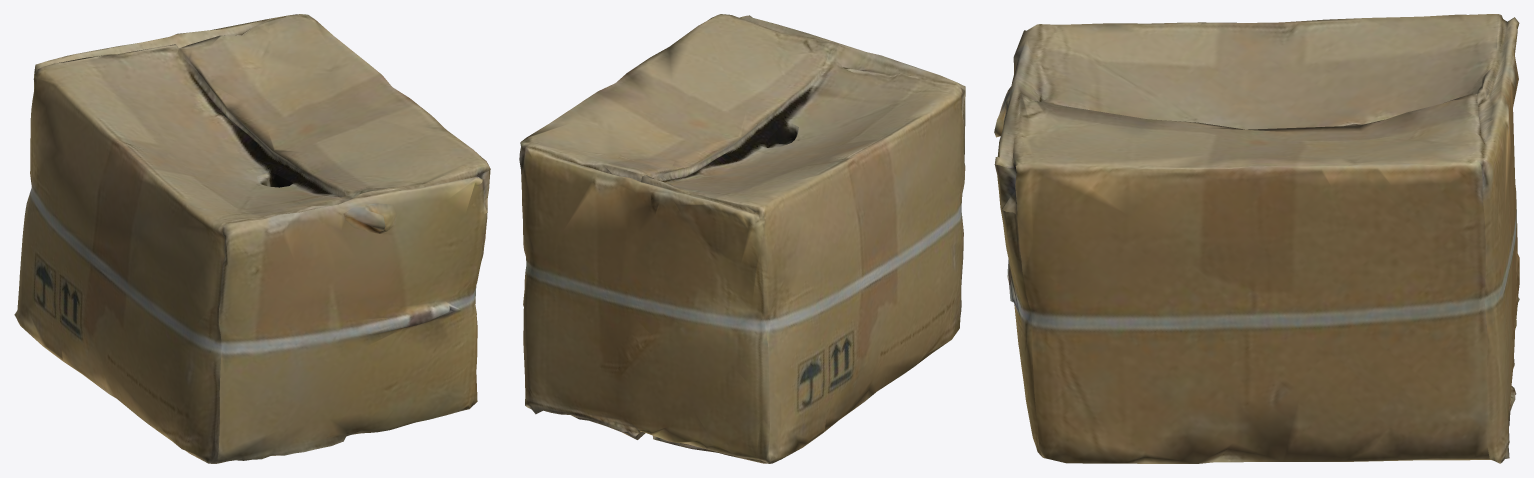
Rendered from CardboardBox.obj.
3 views of the same model, side by side, from view 1: azimuth 30°, elevation 25°; view 2: azimuth 150°, elevation 25°; view 3: azimuth 270°, elevation 25° (orthographic). The views are drawn at different scales.
Visible parts, largest first — view 1: Cardboard; view 2: Cardboard; view 3: Cardboard.
Part boxes in pixels (x1,y1,x2,y2): Cardboard: (14,14,490,463); Cardboard: (519,14,965,463); Cardboard: (994,14,1519,463).
Size of the model in its own units: 0.3868 by 0.3397 by 0.5156.
Materials: 1 (1 with a texture image).
